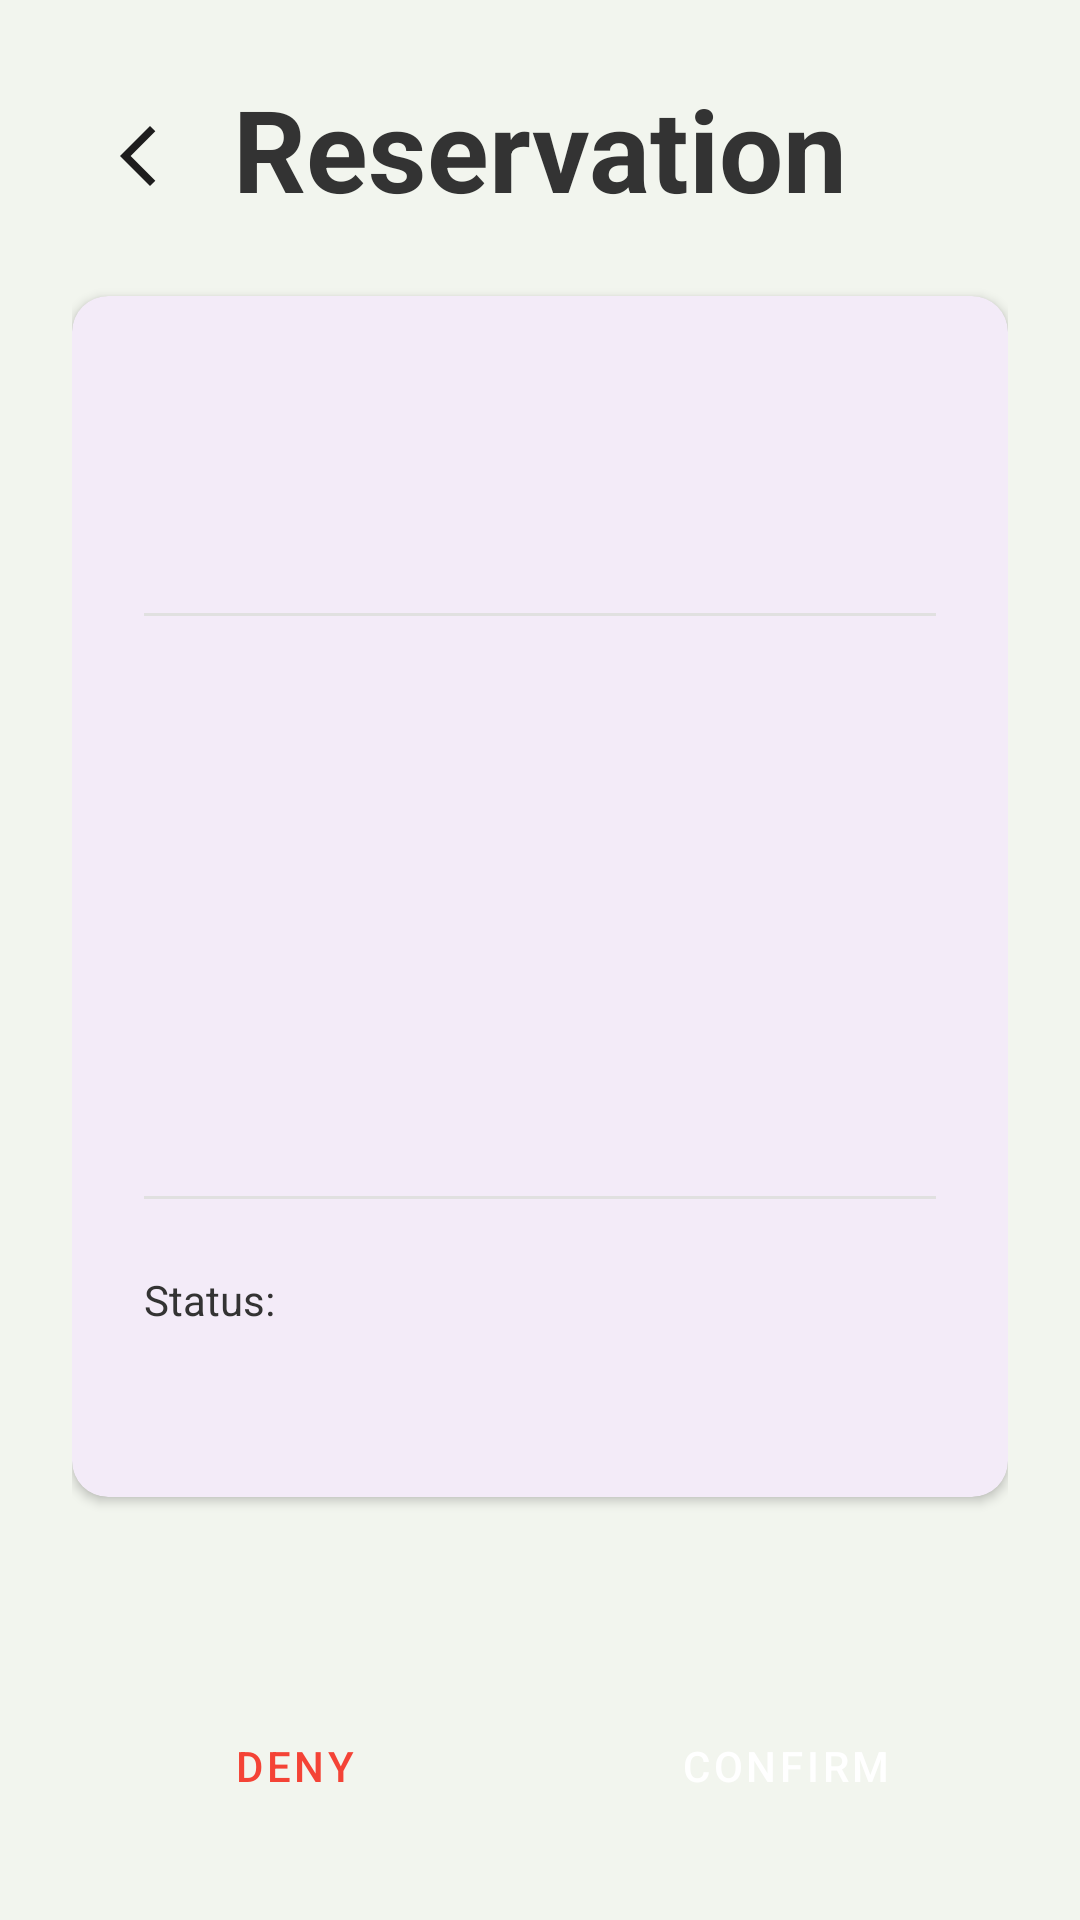

Named icons in this screenshot (1080 × 1920) and their centers, [x,y]:
return: [137,156]
